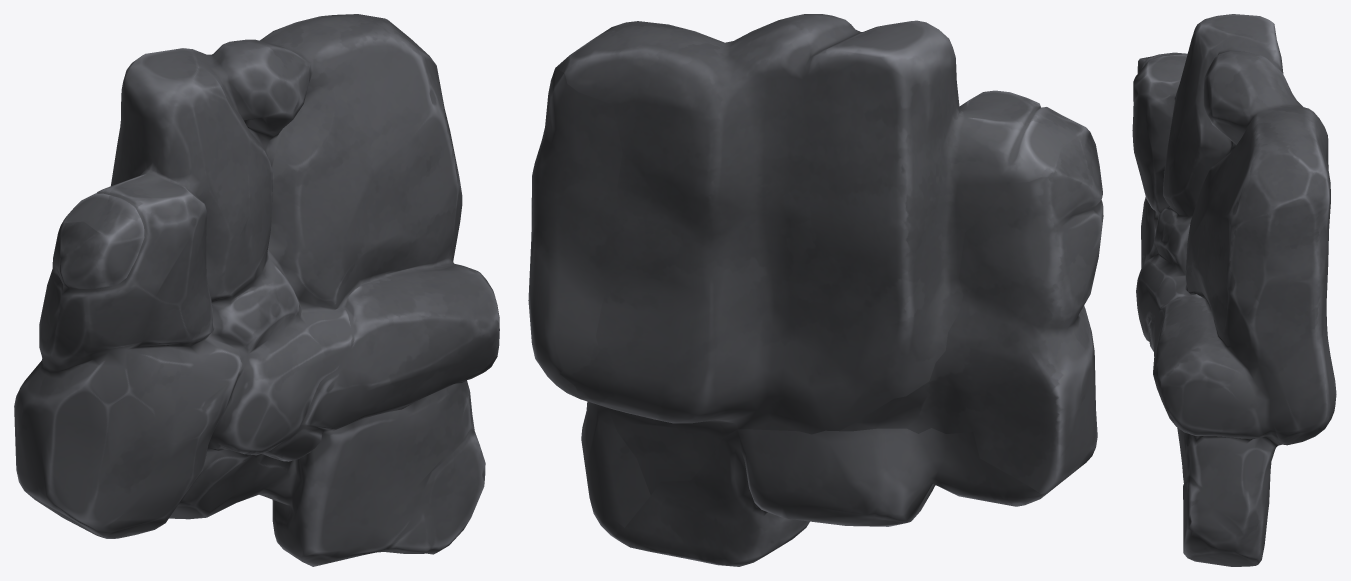
Rendered from Stonewall01_2.fbx.
3 views of the same model, side by side, from view 1: azimuth 30°, elevation 25°; view 2: azimuth 150°, elevation 25°; view 3: azimuth 270°, elevation 25° (orthographic). The views are drawn at different scales.
Parts seen in each view (by area): view 1: Stonewall01_2; view 2: Stonewall01_2; view 3: Stonewall01_2.
Part boxes in pixels (x1,y1,x2,y2): Stonewall01_2: (14, 14, 499, 566); Stonewall01_2: (528, 14, 1103, 566); Stonewall01_2: (1132, 14, 1336, 566).
Bounding box in the file's own units: 180 × 200 × 82.56.
Materials: 1 (1 with a texture image).
